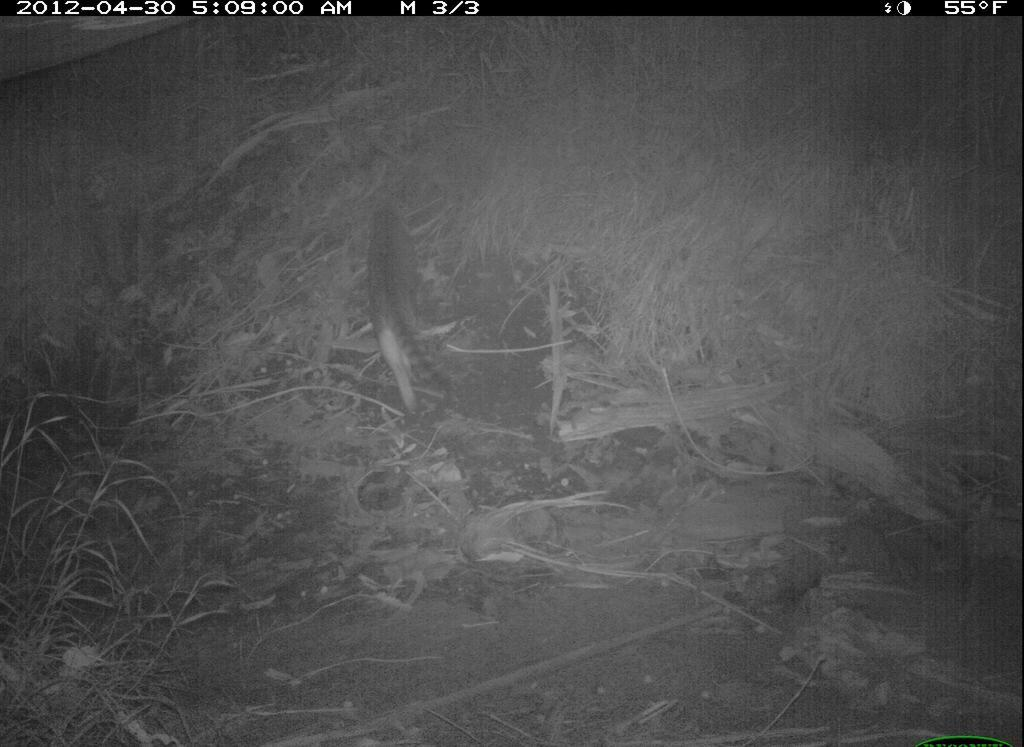cat: (365, 182, 470, 423)
